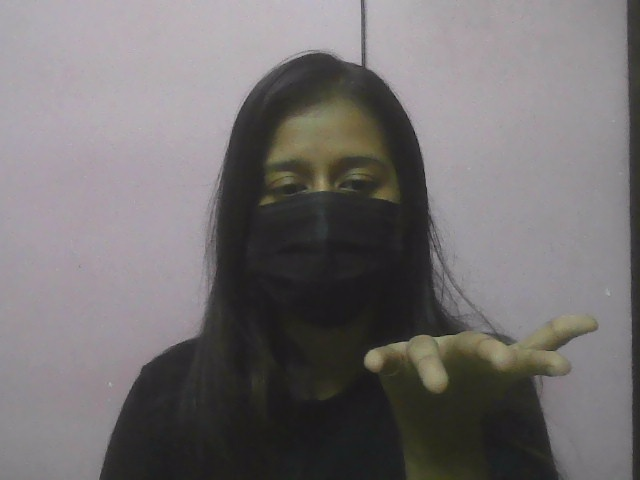Morning: (345, 309, 619, 400)
